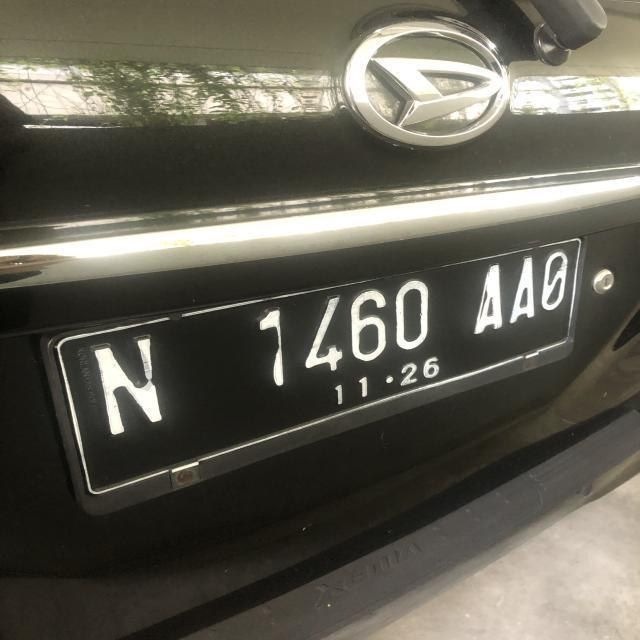0: (390, 280, 437, 352)
1: (260, 305, 288, 386)
4: (302, 294, 344, 374)
6: (348, 284, 389, 365)
A: (476, 256, 504, 338), (509, 256, 541, 324)
N: (90, 332, 162, 431)
O: (540, 252, 577, 314)
